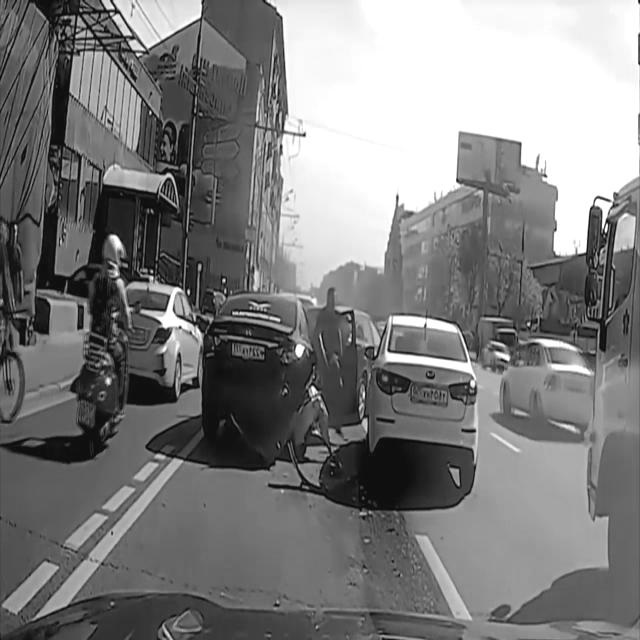accident: (203, 285, 361, 503)
non-accident: (68, 236, 202, 462), (478, 316, 520, 376)
